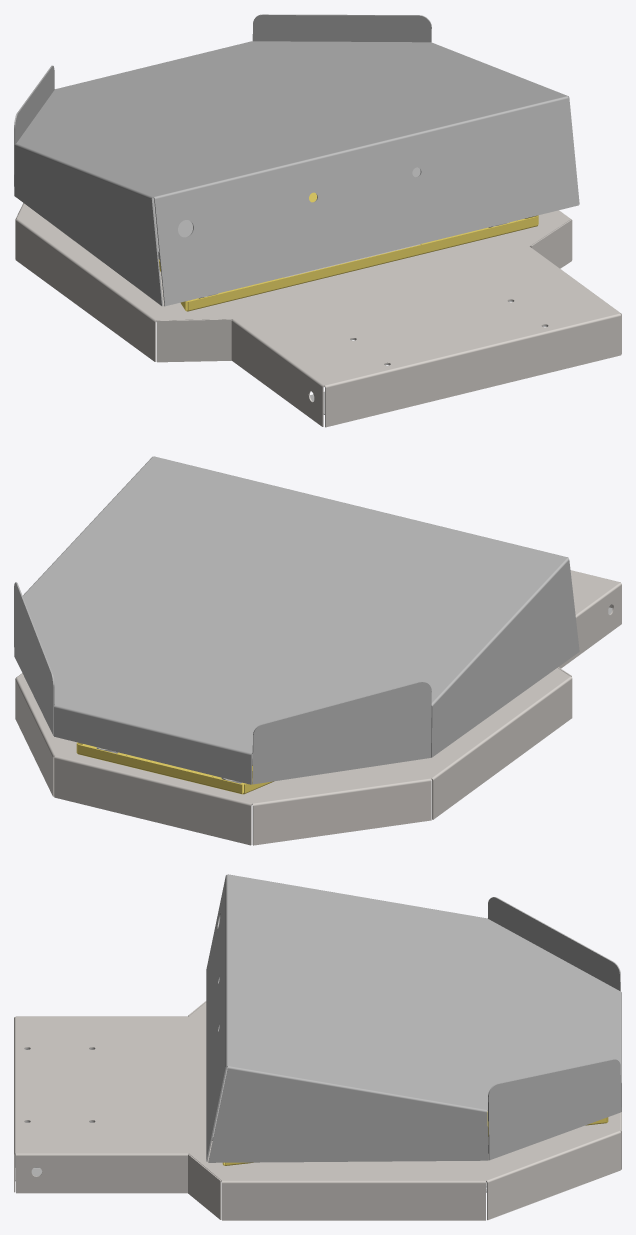
Rendered from 3dbase.glb.
3 views of the same model, one above another, from view 1: azimuth 30°, elevation 25°; view 2: azimuth 150°, elevation 25°; view 3: azimuth 270°, elevation 25° (orthographic). The views are drawn at different scales.
Visible parts, largest first — view 1: bottom top-1, Base-1, Mirrorbottom Top side support-2, middel part 1-1, MirrorPart1-2, bottom Top side support-1, side support-1; view 2: bottom top-1, Base-1, bottom Top side support-1, Mirrorbottom Top side support-2, middel part 1-1; view 3: bottom top-1, Base-1, Mirrorbottom Top side support-2, bottom Top side support-1, side support-1.
Boxes of the visible parts, x1,y1,x2,y2 form: bottom top-1: (14, 41, 579, 306); Base-1: (15, 203, 621, 427); Mirrorbottom Top side support-2: (252, 14, 431, 42); middel part 1-1: (158, 192, 538, 311); MirrorPart1-2: (156, 319, 231, 362); bottom Top side support-1: (14, 65, 54, 186); side support-1: (530, 219, 571, 268); bottom top-1: (23, 456, 579, 784); Base-1: (15, 570, 621, 845); bottom Top side support-1: (252, 681, 431, 784); Mirrorbottom Top side support-2: (14, 582, 54, 735); middel part 1-1: (76, 742, 273, 794); bottom top-1: (206, 874, 621, 1162); Base-1: (14, 1002, 621, 1220); Mirrorbottom Top side support-2: (488, 1059, 621, 1160); bottom Top side support-1: (488, 897, 620, 991); side support-1: (188, 1154, 221, 1219).
Bounding box in the file's own units: 0.4241 × 0.1576 × 0.5639.
